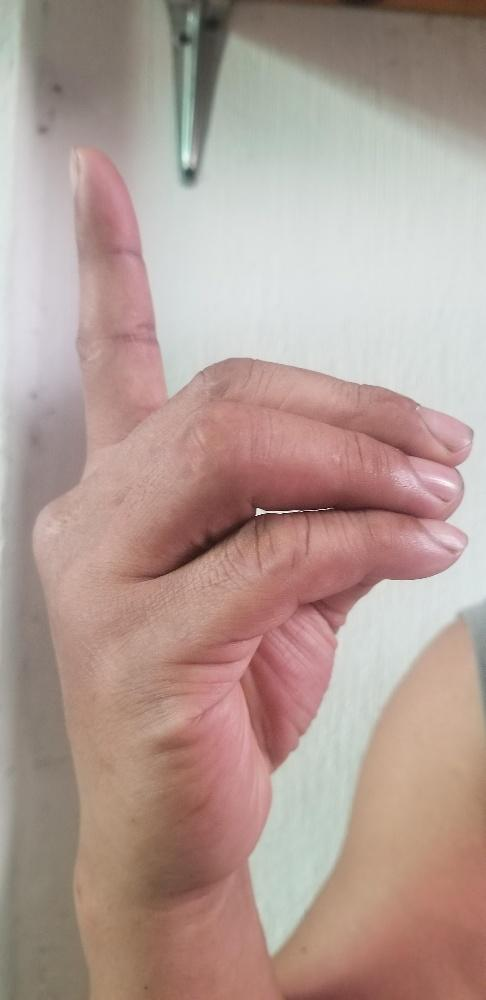d: (29, 142, 485, 872)
